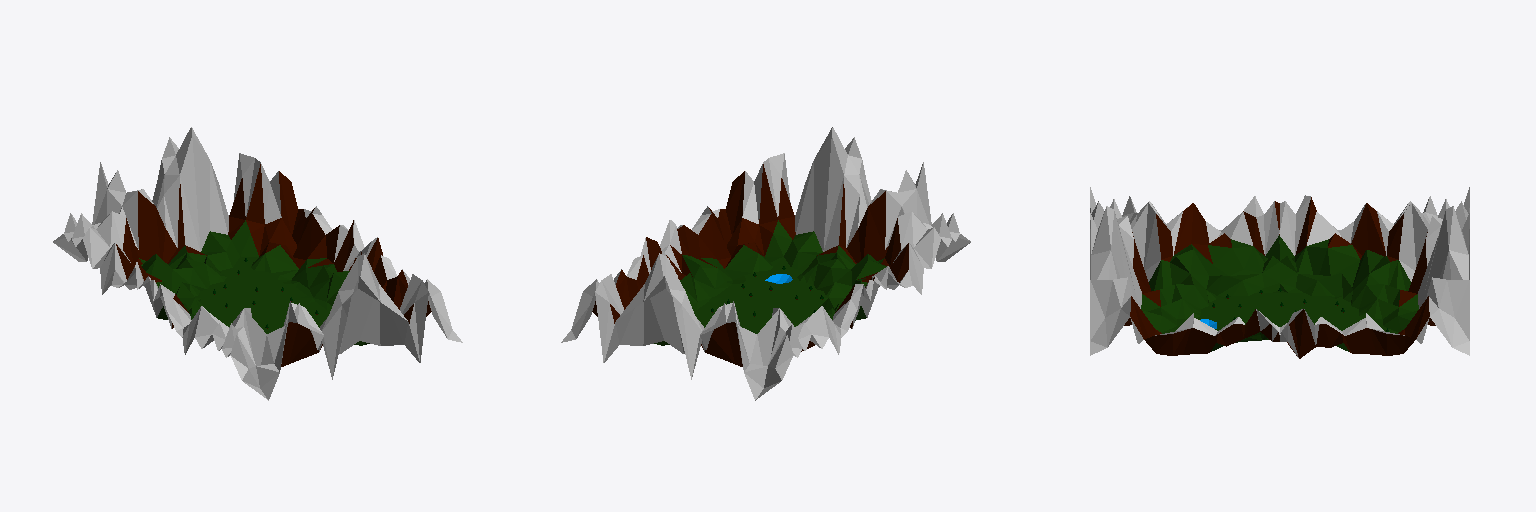
Rendered from map.obj.
3 renders of one model, left to right at view 1: azimuth 30°, elevation 25°; view 2: azimuth 150°, elevation 25°; view 3: azimuth 270°, elevation 25°, orthographic.
Visible parts, largest first — view 1: Terrain_Plane.001, Terrain_Plane.002; view 2: Terrain_Plane.002, Terrain_Plane.001; view 3: Terrain_Plane.001, Terrain_Plane.002.
Boxes of the visible parts, <box> form: Terrain_Plane.001: <box>53,127,364,320</box>; Terrain_Plane.002: <box>150,237,462,400</box>; Terrain_Plane.002: <box>660,127,970,320</box>; Terrain_Plane.001: <box>561,237,873,400</box>; Terrain_Plane.001: <box>1279,187,1469,358</box>; Terrain_Plane.002: <box>1090,187,1280,355</box>.
Size of the model in its own units: 615 by 317 by 901.